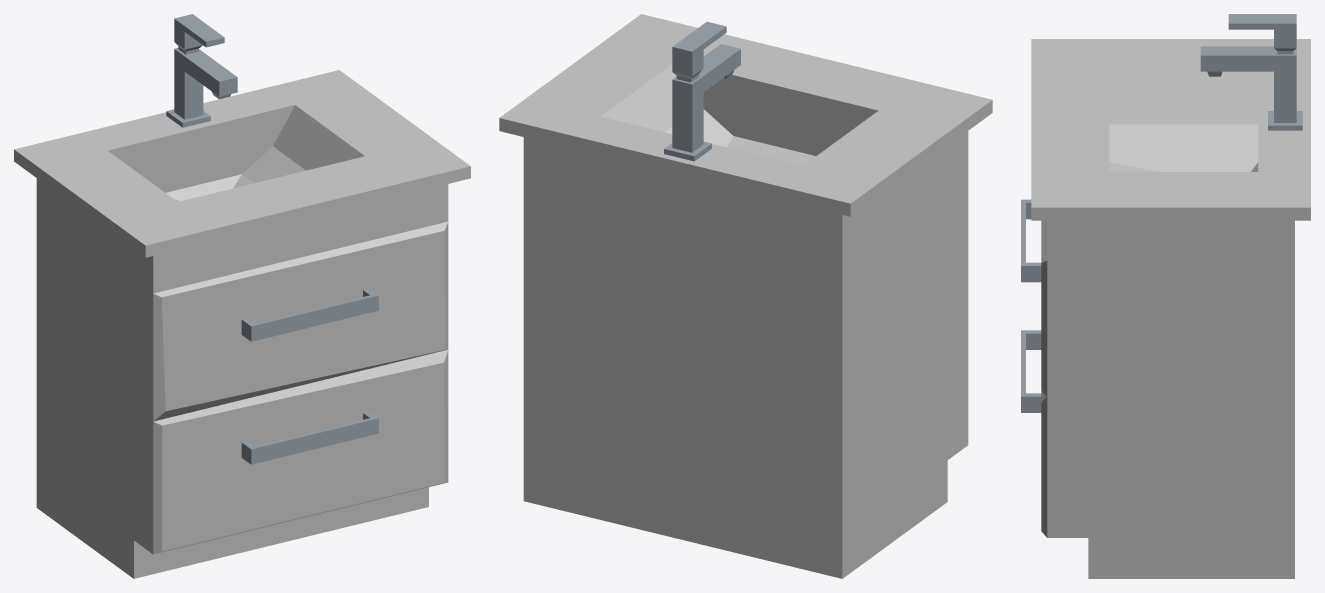
Rendered from BathroomSink.fbx.
3 renders of one model, left to right at view 1: azimuth 30°, elevation 25°; view 2: azimuth 150°, elevation 25°; view 3: azimuth 270°, elevation 25°, orthographic. The views are drawn at different scales.
Visible parts, largest first — view 1: BathroomSink; view 2: BathroomSink; view 3: BathroomSink.
Boxes of the visible parts, <box> form: BathroomSink: <box>14,14,470,578</box>; BathroomSink: <box>499,14,992,578</box>; BathroomSink: <box>1021,14,1310,578</box>.
Bounding box in the file's own units: 92.77 × 124 × 67.32.
1 material, 1 textured.
